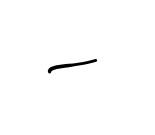minus: (47, 58, 98, 74)
